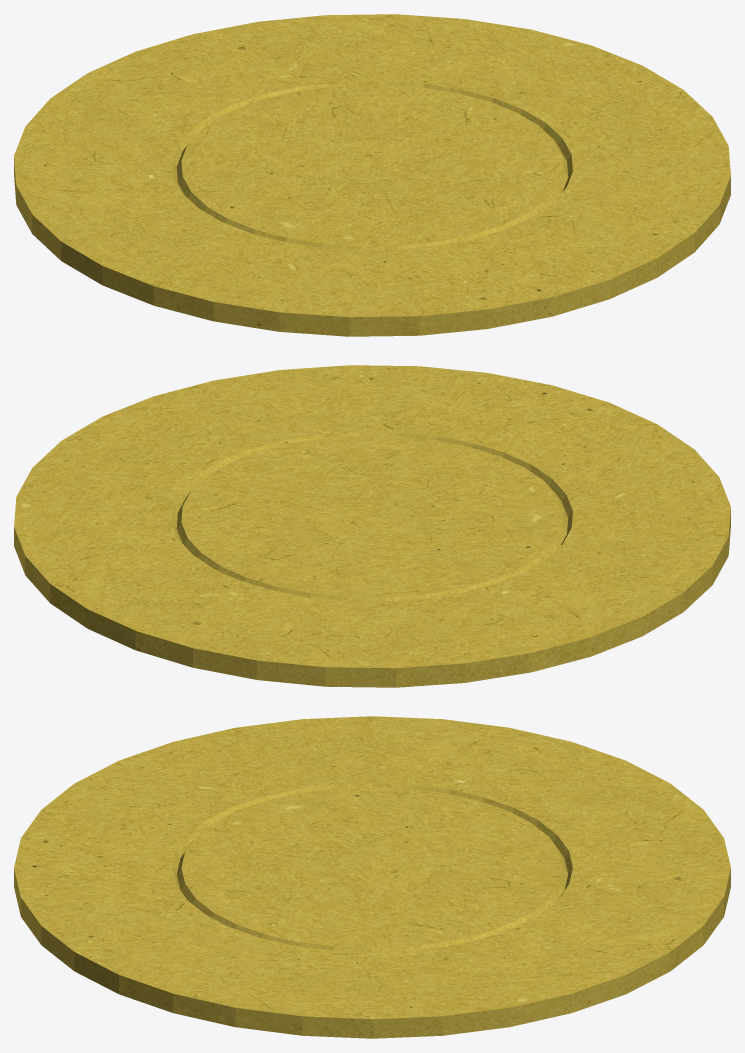
The model's file is dalgona_cookie_circle_squid_game_cookies.glb.
3 renders of one model, top to bottom at view 1: azimuth 30°, elevation 25°; view 2: azimuth 150°, elevation 25°; view 3: azimuth 270°, elevation 25°, orthographic.
Parts seen in each view (by area): view 1: Mesh_DalgonaCookieCircle; view 2: Mesh_DalgonaCookieCircle; view 3: Mesh_DalgonaCookieCircle.
Boxes of the visible parts, box(x1,y1,x2,y2) form: Mesh_DalgonaCookieCircle: box(14, 14, 730, 336); Mesh_DalgonaCookieCircle: box(14, 365, 730, 687); Mesh_DalgonaCookieCircle: box(14, 716, 730, 1038).
Size of the model in its own units: 0.1 by 0.003 by 0.1.
Materials: 1 (1 with a texture image).
